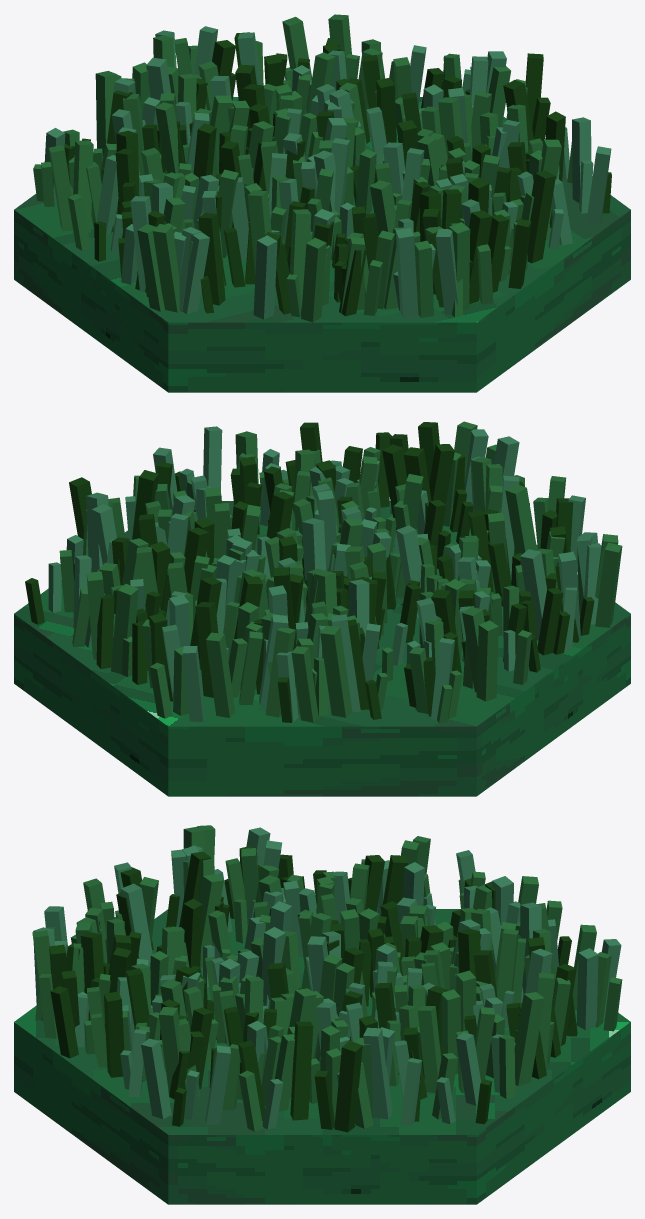
Rendered from hex_grass_3.gltf.
The picture shows the model from 3 angles, top to bottom: view 1: azimuth 30°, elevation 25°; view 2: azimuth 150°, elevation 25°; view 3: azimuth 270°, elevation 25°; orthographic projection.
Parts seen in each view (by area): view 1: Cube, grass; view 2: Cube, grass; view 3: Cube, grass.
Boxes of the visible parts, x1,y1,x2,y2 form: Cube: [33, 14, 611, 322]; grass: [14, 97, 630, 392]; Cube: [25, 421, 622, 723]; grass: [14, 501, 630, 796]; Cube: [32, 825, 622, 1132]; grass: [14, 909, 630, 1204].
Size of the model in its own units: 1.79 by 0.5702 by 2.
Materials: 4 (1 with a texture image).
